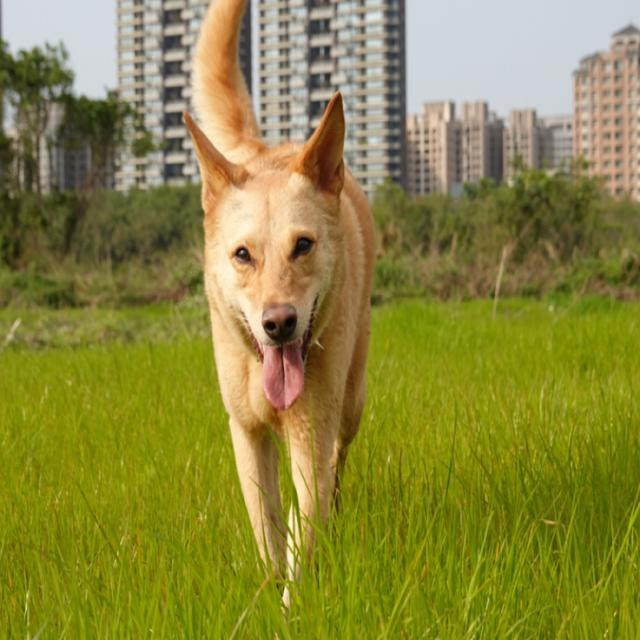dogs: (177, 3, 382, 619)
